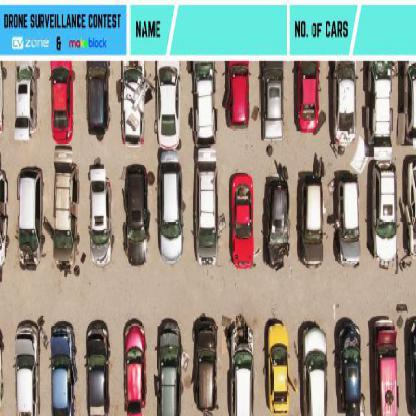car: (193, 153, 220, 266), (369, 158, 398, 260), (84, 320, 115, 415), (372, 316, 400, 415), (15, 170, 43, 268), (50, 327, 81, 415), (226, 176, 256, 265), (12, 320, 40, 415), (120, 324, 149, 415), (122, 164, 148, 265), (86, 164, 112, 265), (154, 61, 183, 151), (298, 328, 328, 414), (158, 168, 184, 265), (334, 325, 362, 415), (265, 319, 291, 415), (154, 326, 182, 415), (118, 60, 146, 147), (54, 152, 75, 268), (367, 64, 396, 147), (230, 321, 255, 415), (330, 64, 357, 151), (298, 181, 325, 267), (192, 324, 217, 415), (190, 61, 217, 145), (335, 181, 362, 265), (265, 180, 290, 270), (47, 62, 73, 139), (292, 65, 321, 133), (15, 65, 37, 140), (226, 63, 250, 130), (86, 64, 108, 137), (261, 69, 284, 137), (404, 161, 415, 259), (403, 61, 415, 144)
